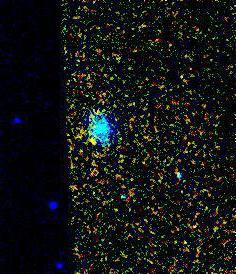star: (80, 128, 110, 158)
